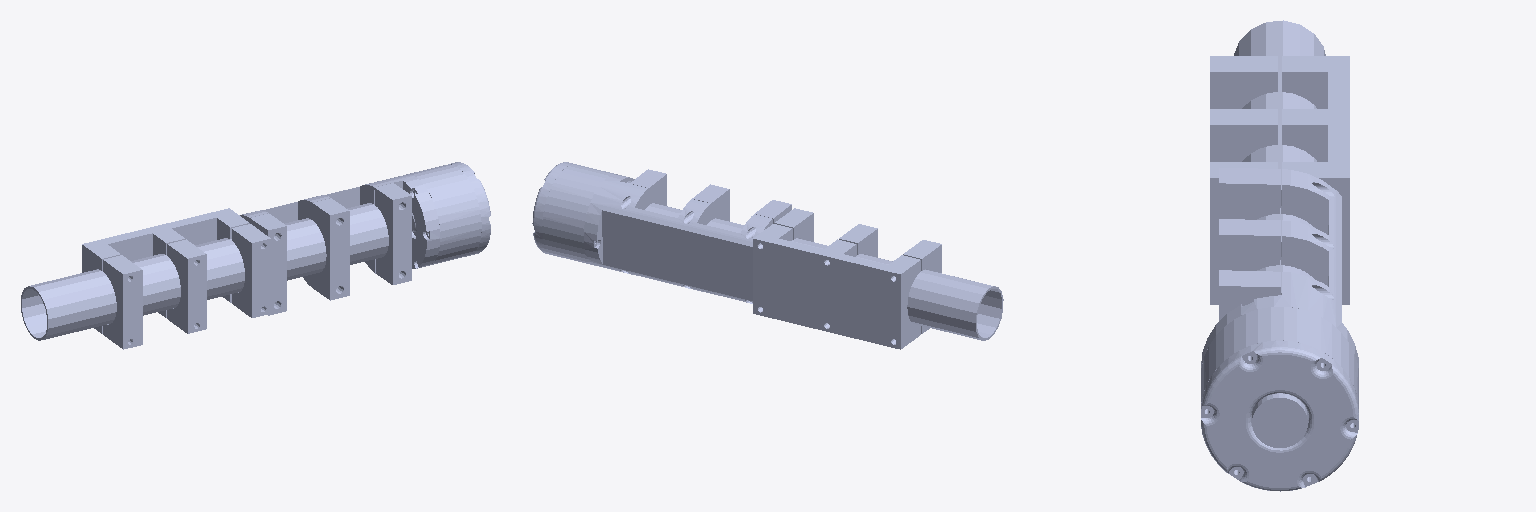
robot.urdf — robot_arm:
<?xml version="1.0"?>
<!-- This URDF was automatically created by SolidWorks to URDF Exporter! Originally created by [author] ([email redacted]) 
     Commit Version: 1.6.0-4-g7f85cfe  Build Version: 1.6.7995.38578
     For more information, please see http://wiki.ros.org/sw_urdf_exporter -->
<robot name="robot_arm" xmlns:xacro="http://www.ros.org/wiki/xacro">
<link name="world"> </link>

<joint name="fixed_joint" type="fixed">
    <parent link="world"/>
    <child link="base_link"/>
</joint>

  <link
    name="base_link">
    <inertial>
      <origin
        xyz="-4.88107911707694E-05 0.000261766816964579 0.0195284691943009"
        rpy="0 0 0" />
      <mass
        value="0.862321246641127" />
      <inertia
        ixx="0.000866370957015368"
        ixy="-1.38490078860551E-06"
        ixz="2.24445757814572E-07"
        iyy="0.000868291408208145"
        iyz="-1.04758559614853E-07"
        izz="0.00149899135893618" />
    </inertial>
    <visual>
      <origin
        xyz="0 0 0"
        rpy="0 0 0" />
      <geometry>
        <mesh
          filename="package://robot_description/meshes/base_link.STL" />
      </geometry>
      <material
        name="">
        <color
          rgba="0.792156862745098 0.819607843137255 0.933333333333333 1" />
      </material>
    </visual>
    <collision>
      <origin
        xyz="0 0 0"
        rpy="0 0 0" />
      <geometry>
        <mesh
          filename="package://robot_description/meshes/base_link.STL" />
      </geometry>
    </collision>
  </link>
  <link
    name="link1">
    <inertial>
      <origin
        xyz="0.0191688910185427 0.00478907976452374 0.13245139509904"
        rpy="0 0 0" />
      <mass
        value="0.933020279192486" />
      <inertia
        ixx="0.00114051971366641"
        ixy="1.85967582880521E-05"
        ixz="4.88076293734609E-05"
        iyy="0.00180174676603538"
        iyz="-0.000172277782760482"
        izz="0.00128608735579939" />
    </inertial>
    <visual>
      <origin
        xyz="0 0 0"
        rpy="0 0 0" />
      <geometry>
        <mesh
          filename="package://robot_description/meshes/link1.STL" />
      </geometry>
      <material
        name="">
        <color
          rgba="0.792156862745098 0.819607843137255 0.933333333333333 1" />
      </material>
    </visual>
    <collision>
      <origin
        xyz="0 0 0"
        rpy="0 0 0" />
      <geometry>
        <mesh
          filename="package://robot_description/meshes/link1.STL" />
      </geometry>
    </collision>
  </link>
  <joint
    name="joint1"
    type="revolute">
    <origin
      xyz="0 0 0"
      rpy="0 0 0" />
    <parent
      link="base_link" />
    <child
      link="link1" />
    <axis
      xyz="0 0 1" />
    <limit
      lower="-3.142"
      upper="3.142"
      effort="200"
      velocity="3" />
  </joint>
  <link
    name="link2">
    <inertial>
      <origin
        xyz="0.406023864292134 -0.000135637946033745 -0.0936736950630587"
        rpy="0 0 0" />
      <mass
        value="1.58003168597128" />
      <inertia
        ixx="0.00112400154120292"
        ixy="6.16582160108458E-07"
        ixz="-3.21759360447314E-05"
        iyy="0.00864393223630614"
        iyz="-1.62466059699672E-07"
        izz="0.00948245271452403" />
    </inertial>
    <visual>
      <origin
        xyz="0 0 0"
        rpy="0 0 0" />
      <geometry>
        <mesh
          filename="package://robot_description/meshes/link2.STL" />
      </geometry>
      <material
        name="">
        <color
          rgba="0.792156862745098 0.819607843137255 0.933333333333333 1" />
      </material>
    </visual>
    <collision>
      <origin
        xyz="0 0 0"
        rpy="0 0 0" />
      <geometry>
        <mesh
          filename="package://robot_description/meshes/link2.STL" />
      </geometry>
    </collision>
  </link>
  <joint
    name="joint2"
    type="revolute">
    <origin
      xyz="0 0 0.15359"
      rpy="1.5708 0 0" />
    <parent
      link="link1" />
    <child
      link="link2" />
    <axis
      xyz="0 0 1" />
    <limit
      lower="-3.142"
      upper="3.142"
      effort="200"
      velocity="3" />
  </joint>
  <link
    name="link3">
    <inertial>
      <origin
        xyz="0.125564414321802 5.46581483652775E-05 -0.00412466847181182"
        rpy="0 0 0" />
      <mass
        value="0.882578527865074" />
      <inertia
        ixx="0.000682299430907676"
        ixy="-1.14850034706628E-06"
        ixz="-5.55017845184157E-05"
        iyy="0.00254032305365104"
        iyz="2.59349045584707E-06"
        izz="0.00280297899915356" />
    </inertial>
    <visual>
      <origin
        xyz="0 0 0"
        rpy="0 0 0" />
      <geometry>
        <mesh
          filename="package://robot_description/meshes/link3.STL" />
      </geometry>
      <material
        name="">
        <color
          rgba="0.792156862745098 0.819607843137255 0.933333333333333 1" />
      </material>
    </visual>
    <collision>
      <origin
        xyz="0 0 0"
        rpy="0 0 0" />
      <geometry>
        <mesh
          filename="package://robot_description/meshes/link3.STL" />
      </geometry>
    </collision>
  </link>
  <joint
    name="joint3"
    type="revolute">
    <origin
      xyz="0.5705 0 0"
      rpy="0 0 0" />
    <parent
      link="link2" />
    <child
      link="link3" />
    <axis
      xyz="0 0 1" />
    <limit
      lower="-3.142"
      upper="3.142"
      effort="200"
      velocity="3" />
  </joint>
  <link
    name="link4">
    <inertial>
      <origin
        xyz="-2.00582990467213E-07 2.96459256199494E-06 0.354250124991623"
        rpy="0 0 0" />
      <mass
        value="0.311760109277803" />
      <inertia
        ixx="0.000258049287644613"
        ixy="2.09832523334602E-07"
        ixz="-2.70034147807655E-09"
        iyy="0.000324876691876478"
        iyz="2.4605783855687E-11"
        izz="0.000120921890714162" />
    </inertial>
    <visual>
      <origin
        xyz="0 0 0"
        rpy="0 0 0" />
      <geometry>
        <mesh
          filename="package://robot_description/meshes/link4.STL" />
      </geometry>
      <material
        name="">
        <color
          rgba="0.792156862745098 0.819607843137255 0.933333333333333 1" />
      </material>
    </visual>
    <collision>
      <origin
        xyz="0 0 0"
        rpy="0 0 0" />
      <geometry>
        <mesh
          filename="package://robot_description/meshes/link4.STL" />
      </geometry>
    </collision>
  </link>
  <joint
    name="joint4"
    type="revolute">
    <origin
      xyz="0 0 0"
      rpy="1.5708 0 1.5708" />
    <parent
      link="link3" />
    <child
      link="link4" />
    <axis
      xyz="0 0 1" />
    <limit
      lower="-3.142"
      upper="3.142"
      effort="100"
      velocity="3" />
  </joint>
  <link
    name="link5">
    <inertial>
      <origin
        xyz="-0.0111618337489734 -0.00532778161992728 -2.06183905127937E-07"
        rpy="0 0 0" />
      <mass
        value="0.234826927466692" />
      <inertia
        ixx="5.91753484853108E-05"
        ixy="-8.54621697395847E-07"
        ixz="2.49761518416556E-10"
        iyy="4.8232169663203E-05"
        iyz="2.88353828148435E-10"
        izz="7.70540495400951E-05" />
    </inertial>
    <visual>
      <origin
        xyz="0 0 0"
        rpy="0 0 0" />
      <geometry>
        <mesh
          filename="package://robot_description/meshes/link5.STL" />
      </geometry>
      <material
        name="">
        <color
          rgba="0.792156862745098 0.819607843137255 0.933333333333333 1" />
      </material>
    </visual>
    <collision>
      <origin
        xyz="0 0 0"
        rpy="0 0 0" />
      <geometry>
        <mesh
          filename="package://robot_description/meshes/link5.STL" />
      </geometry>
    </collision>
  </link>
  <joint
    name="joint5"
    type="revolute">
    <origin
      xyz="0 0 0.45067"
      rpy="1.5708 -1.5708 0" />
    <parent
      link="link4" />
    <child
      link="link5" />
    <axis
      xyz="0 0 -1" />
    <limit
      lower="-3.142"
      upper="3.142"
      effort="100"
      velocity="3" />
  </joint>
  <link
    name="link6">
    <inertial>
      <origin
        xyz="-1.6341128553643E-05 0.00167355918709844 0.0649854645664043"
        rpy="0 0 0" />
      <mass
        value="0.632779872484508" />
      <inertia
        ixx="0.000316688796104962"
        ixy="1.49955909226223E-08"
        ixz="2.60101286301092E-08"
        iyy="0.000116784469564606"
        iyz="-2.21915525829638E-08"
        izz="0.000271942933603603" />
    </inertial>
    <visual>
      <origin
        xyz="0 0 0"
        rpy="0 0 0" />
      <geometry>
        <mesh
          filename="package://robot_description/meshes/link6.STL" />
      </geometry>
      <material
        name="">
        <color
          rgba="0.792156862745098 0.819607843137255 0.933333333333333 1" />
      </material>
    </visual>
    <collision>
      <origin
        xyz="0 0 0"
        rpy="0 0 0" />
      <geometry>
        <mesh
          filename="package://robot_description/meshes/link6.STL" />
      </geometry>
    </collision>
  </link>
  <joint
    name="joint6"
    type="revolute">
    <origin
      xyz="0 0 0"
      rpy="1.5708 0 1.5708" />
    <parent
      link="link5" />
    <child
      link="link6" />
    <axis
      xyz="0 0 1" />
    <limit
      lower="-3.142"
      upper="3.142"
      effort="100"
      velocity="3" />
  </joint>
  <link
    name="tool">
    <inertial>
      <origin
        xyz="-0.0766474247811455 -0.00167355918709811 -1.63411285538095E-05"
        rpy="0 0 0" />
      <mass
        value="0.632779872484508" />
      <inertia
        ixx="0.000271942933603603"
        ixy="2.21915525823031E-08"
        ixz="2.60101286301094E-08"
        iyy="0.000116784469564606"
        iyz="-1.49955909267991E-08"
        izz="0.000316688796104962" />
    </inertial>
    <visual>
      <origin
        xyz="0 0 0"
        rpy="0 0 0" />
      <geometry>
        <mesh
          filename="package://robot_description/meshes/tool.STL" />
      </geometry>
      <material
        name="">
        <color
          rgba="0.792156862745098 0.819607843137255 0.933333333333333 1" />
      </material>
    </visual>
    <collision>
      <origin
        xyz="0 0 0"
        rpy="0 0 0" />
      <geometry>
        <mesh
          filename="package://robot_description/meshes/tool.STL" />
      </geometry>
    </collision>
  </link>
  <joint
    name="tool"
    type="fixed">
    <origin
      xyz="0 0 0.14163"
      rpy="0 -1.5708 0" />
    <parent
      link="link6" />
    <child
      link="tool" />
    <axis
      xyz="0 0 0" />
  </joint>
</robot>

--- What the picture shows (computed from the rendered views, not written in the file) ---
The picture shows the robot from 3 angles, left to right: view 1: azimuth 30°, elevation 25°; view 2: azimuth 150°, elevation 25°; view 3: azimuth 270°, elevation 25°; orthographic projection.
Model robot_arm with 9 links and 8 joints (6 revolute, 2 fixed), rooted at world, posed every joint at zero.
Links seen in each view (by area): view 1: link3; view 2: link3; view 3: link3.
Boxes of the visible links, x1,y1,x2,y2 form: link3: (21, 162, 490, 349); link3: (532, 162, 1003, 349); link3: (1201, 20, 1358, 491).
Bounding box of the posed robot: 0.4555 × 0.085 × 0.0859 m (x, y, z).
1 mesh visuals loaded from 8 distinct referenced files (1 binary STL); not drawn: 7 (file found but could not be loaded).